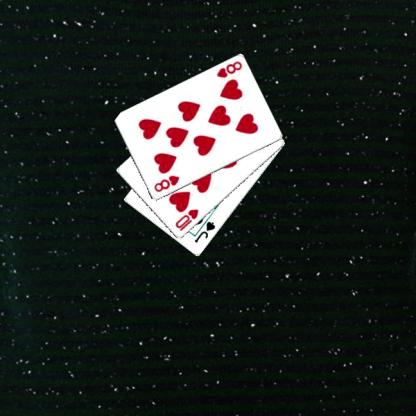10H: (172, 206, 200, 232)
8H: (214, 58, 243, 80), (151, 173, 180, 193)
JS: (192, 219, 216, 244)
